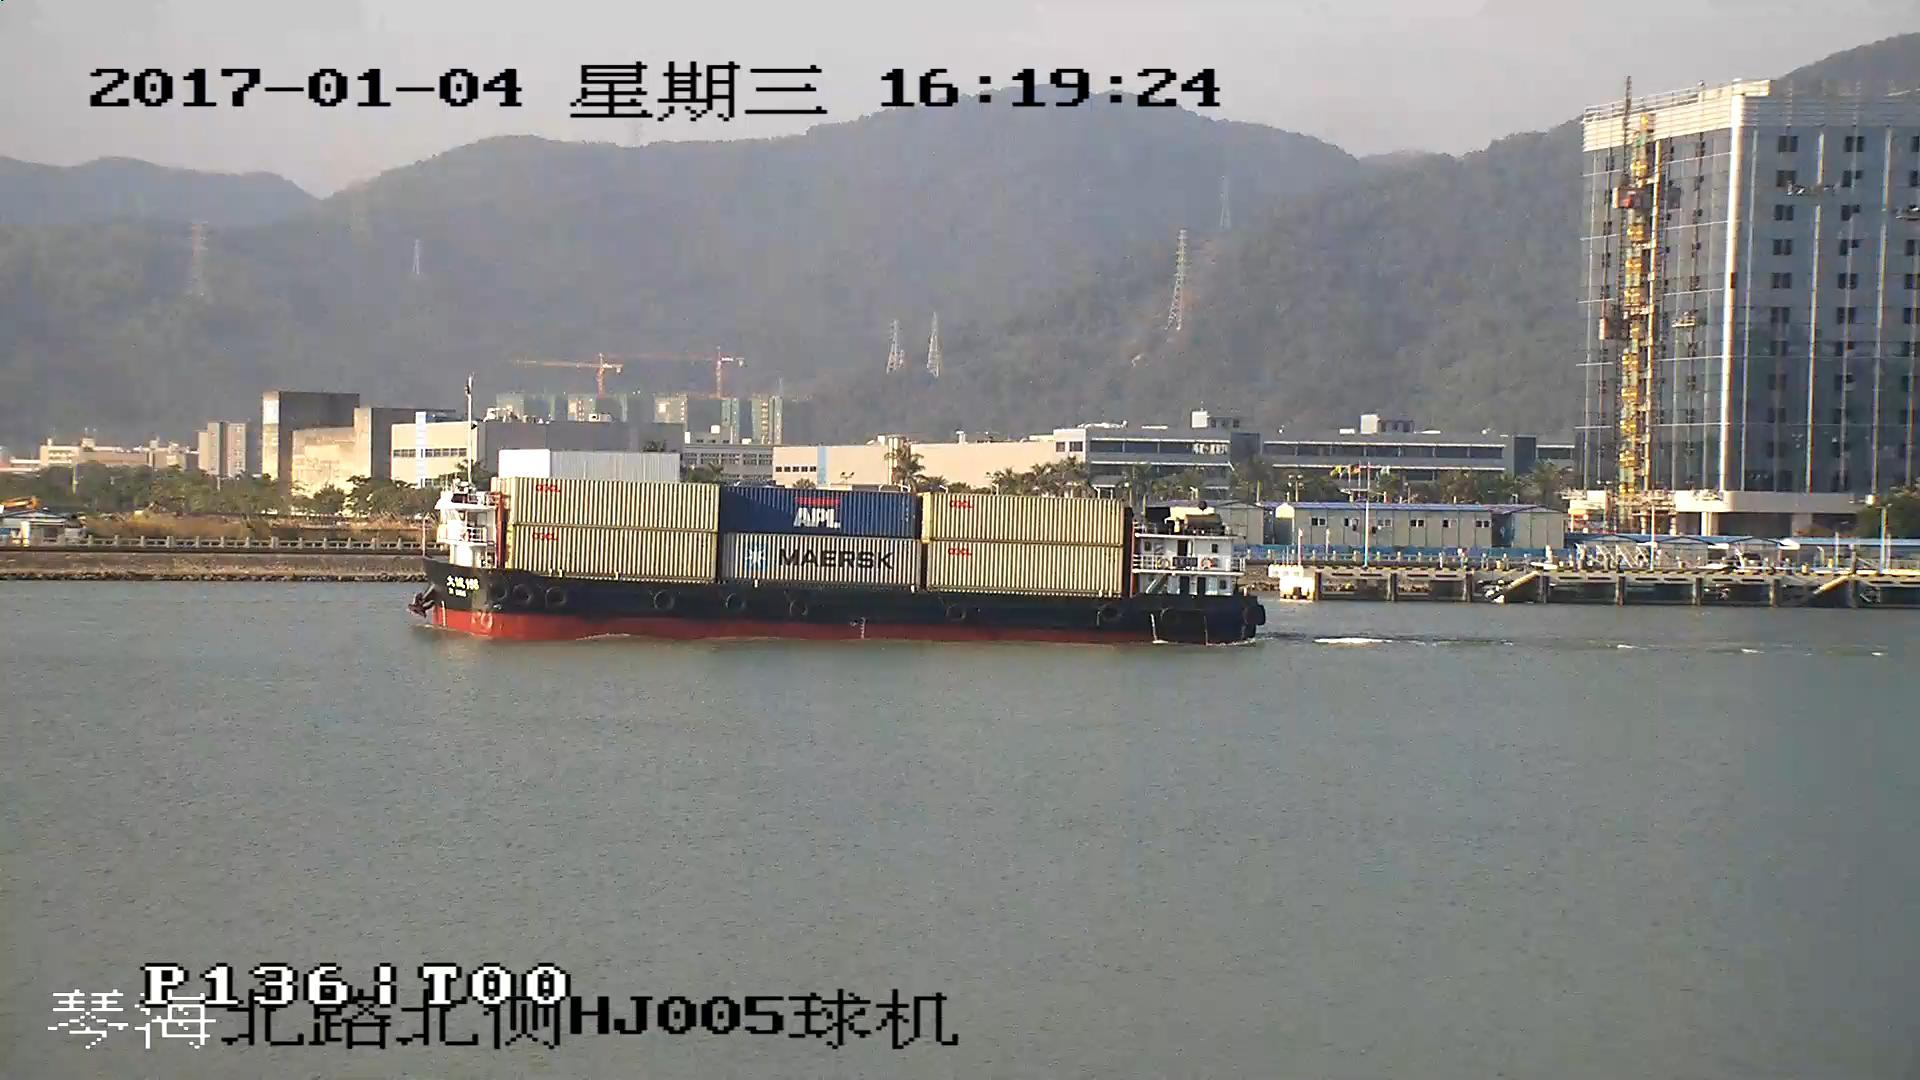Ship: (413, 473, 1267, 644)
